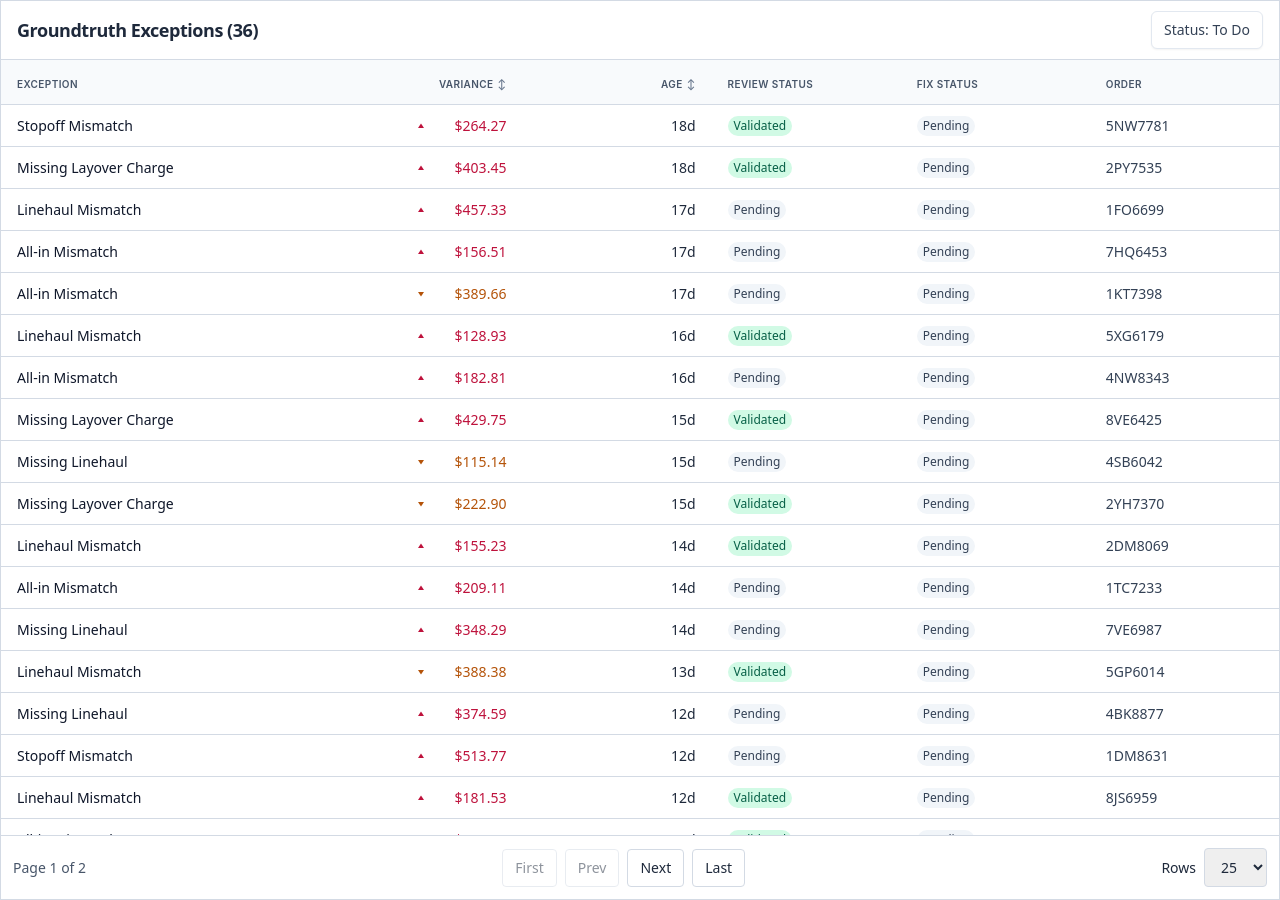
Scenario: ListPage › filters with one-click status chips and reset to To Do
What coordinates should you click on to do the following:
click the button with test id "filter-menu-toggle"
I would click on:
 (1207, 30)
Its box is [1151, 11, 1263, 49].
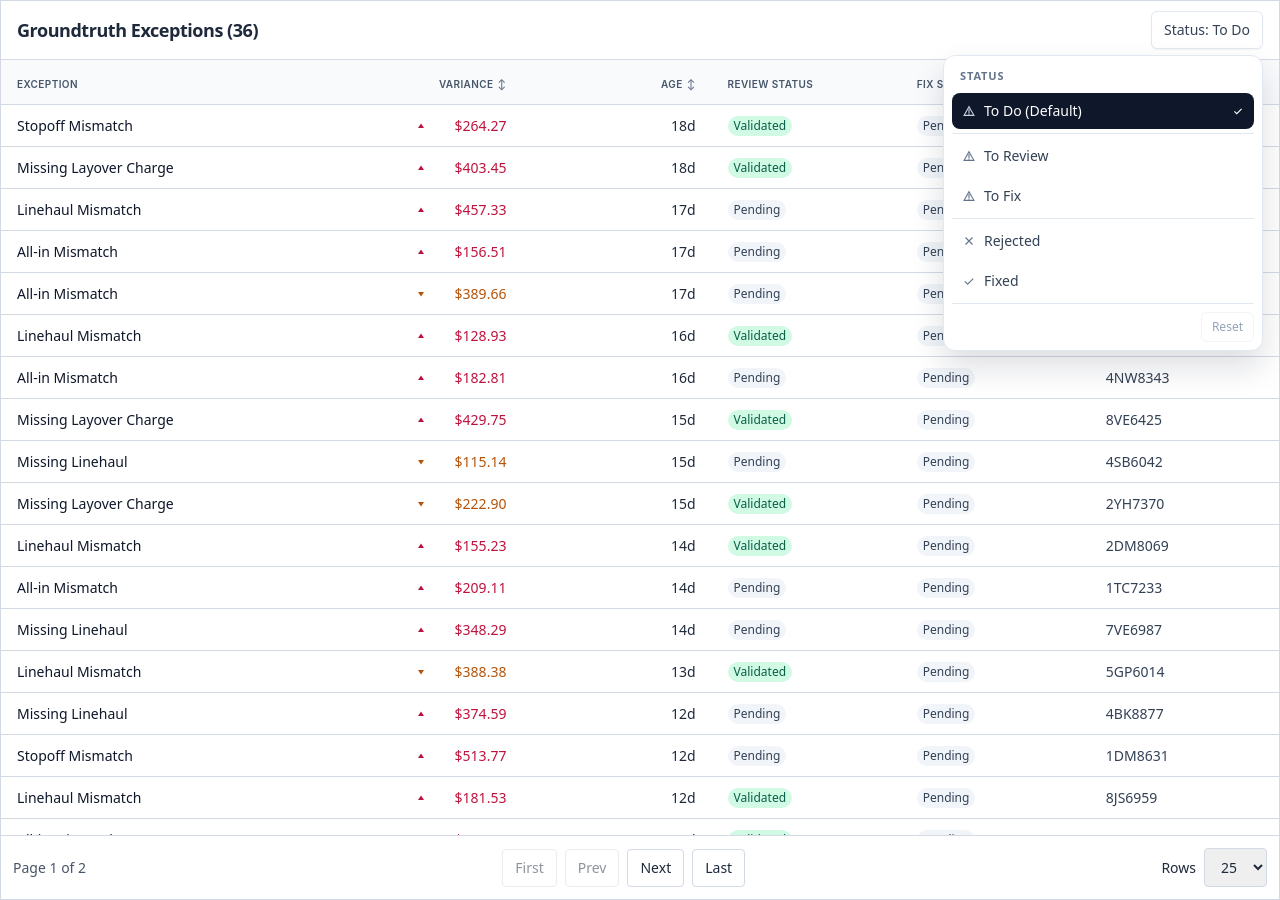
What coordinates should you click on to do the following:
click the button with test id "status-filter-fixed"
I would click on:
 (1001, 280)
Its box is [952, 262, 1254, 298].
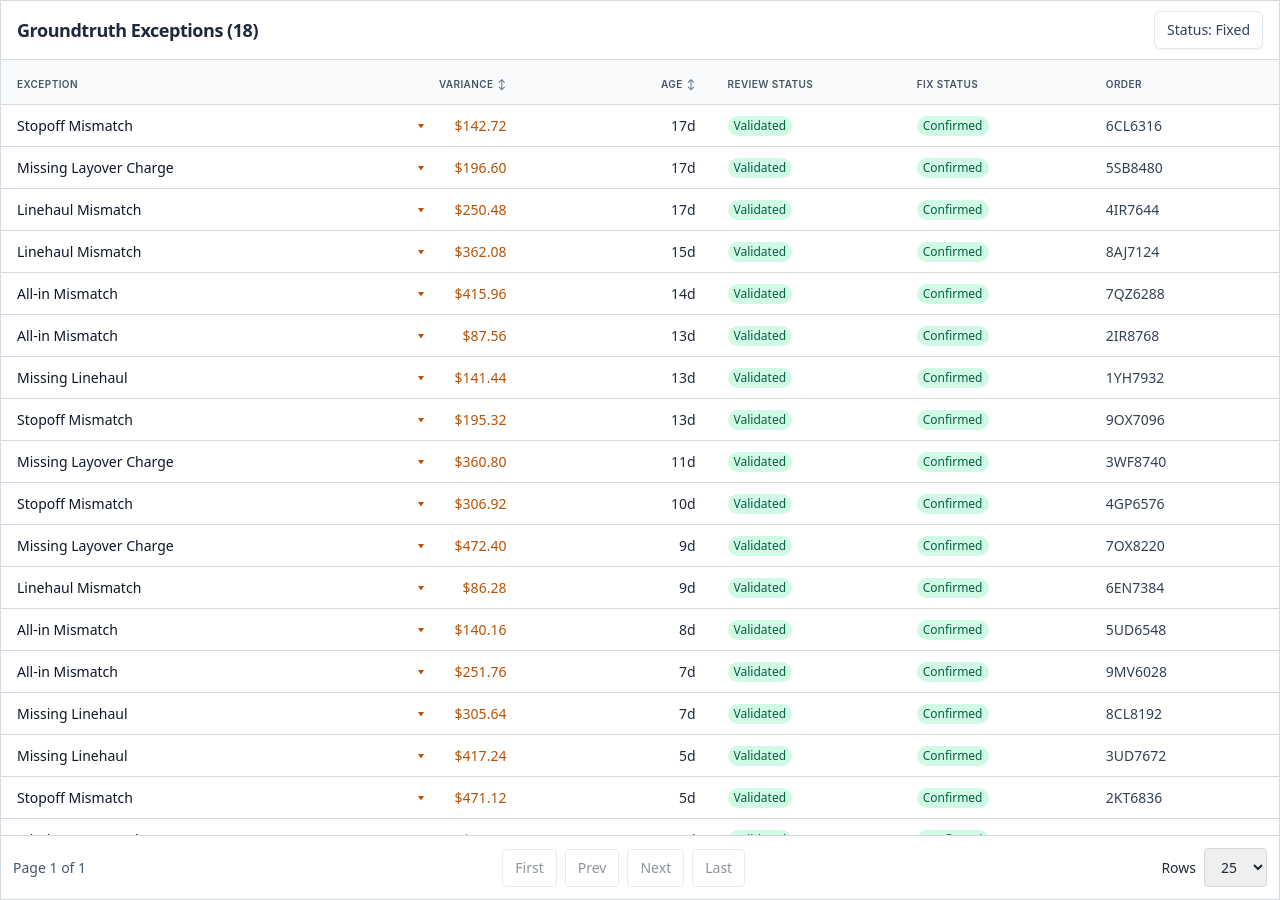
Expected: the element with test id "filter-menu" is gone
Expected: the text "Confirmed" in the row of "$142.72" is shown, [923, 117, 982, 134]
Expected: the button "Rejected" is gone
What coordinates should you click on to do the following:
click the button with test id "filter-menu-toggle"
I would click on:
 (1209, 30)
Its box is [1154, 11, 1263, 49].
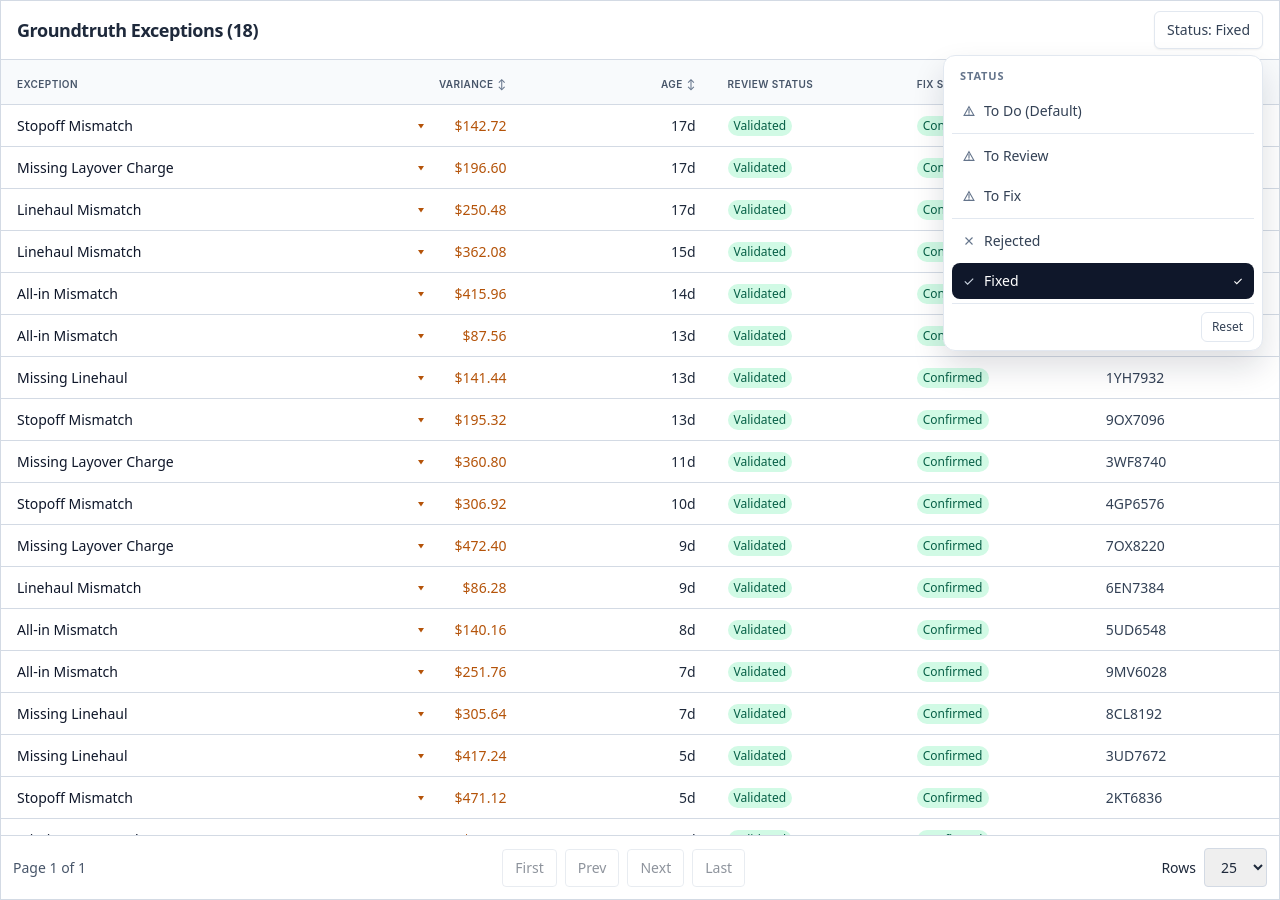
What coordinates should you click on to do the following:
click the button with test id "reset-to-todo"
I would click on:
 (1227, 326)
Its box is [1201, 312, 1254, 342].
(page scrolled)
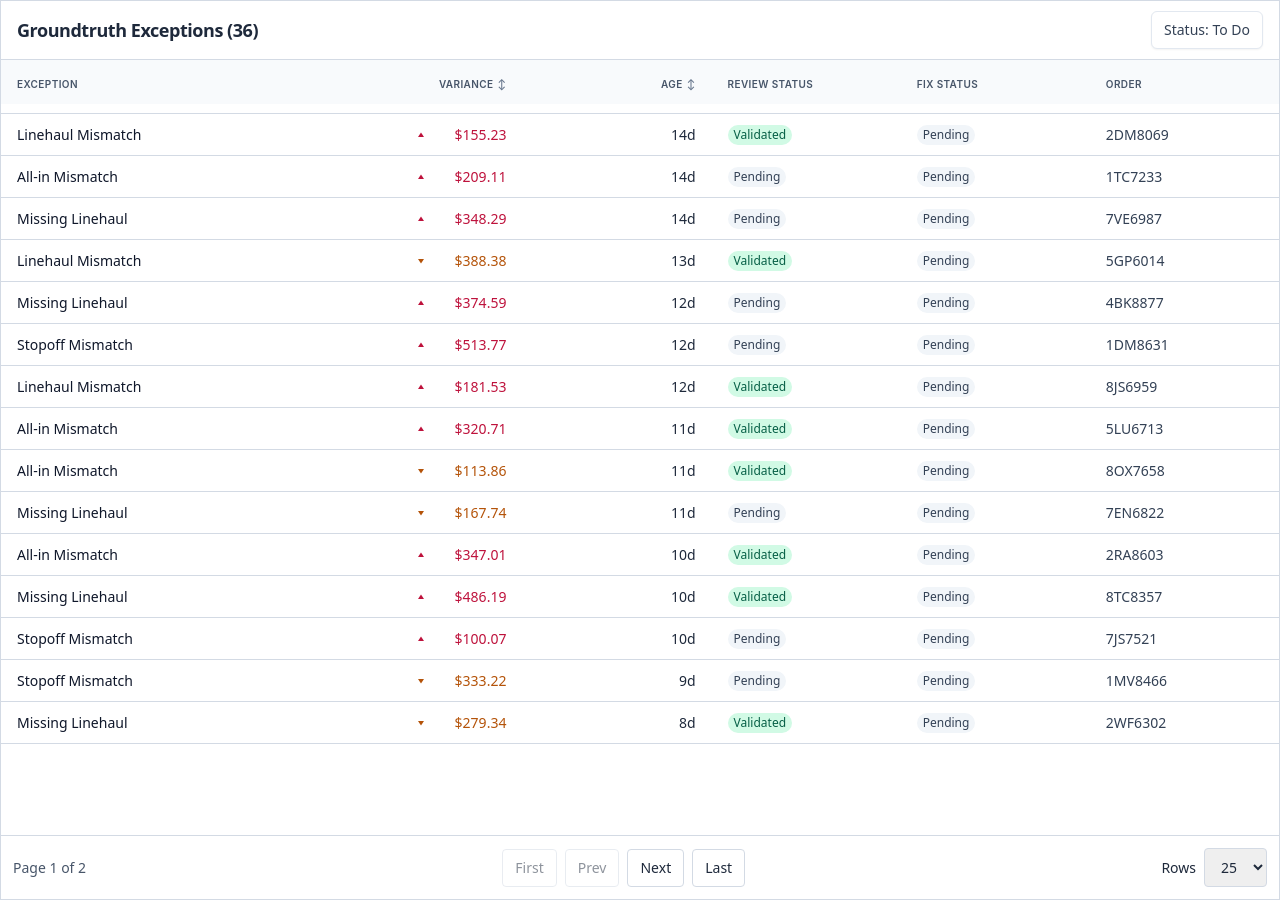
Expected: the element with test id "filter-menu" is gone
Expected: the text "Confirmed" is gone
Expected: the button "Rejected" is gone
